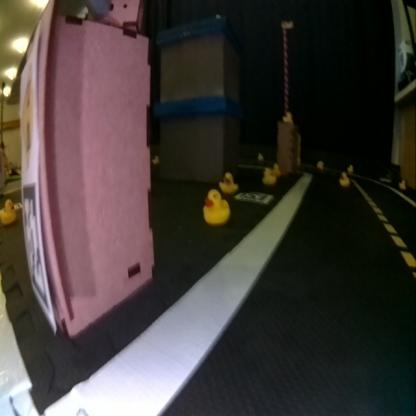Duckie: (203, 192, 227, 224), (218, 172, 236, 192), (1, 199, 14, 224), (262, 170, 274, 184), (270, 163, 280, 176), (340, 172, 348, 184), (283, 112, 292, 122), (398, 179, 405, 188), (316, 160, 322, 168), (347, 164, 353, 172)
QR code: (21, 183, 53, 321), (233, 190, 272, 202)
